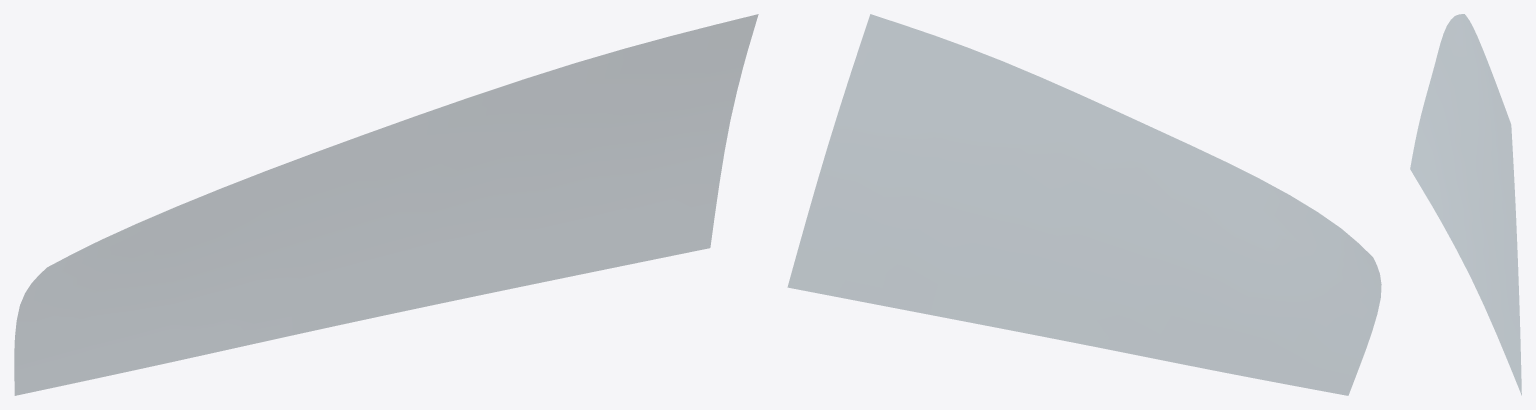
3 renders of one model, left to right at view 1: azimuth 30°, elevation 25°; view 2: azimuth 150°, elevation 25°; view 3: azimuth 270°, elevation 25°, orthographic. The views are drawn at different scales.
Parts seen in each view (by area): view 1: SM_DodgeChargerCop_Door_RL_Glass_Int2; view 2: SM_DodgeChargerCop_Door_RL_Glass_Int2; view 3: SM_DodgeChargerCop_Door_RL_Glass_Int2.
Boxes of the visible parts, x1,y1,x2,y2 form: SM_DodgeChargerCop_Door_RL_Glass_Int2: [14, 14, 758, 395]; SM_DodgeChargerCop_Door_RL_Glass_Int2: [788, 14, 1381, 395]; SM_DodgeChargerCop_Door_RL_Glass_Int2: [1410, 14, 1521, 394].
Bounding box in the file's own units: 0.8062 × 0.3175 × 0.1484.
